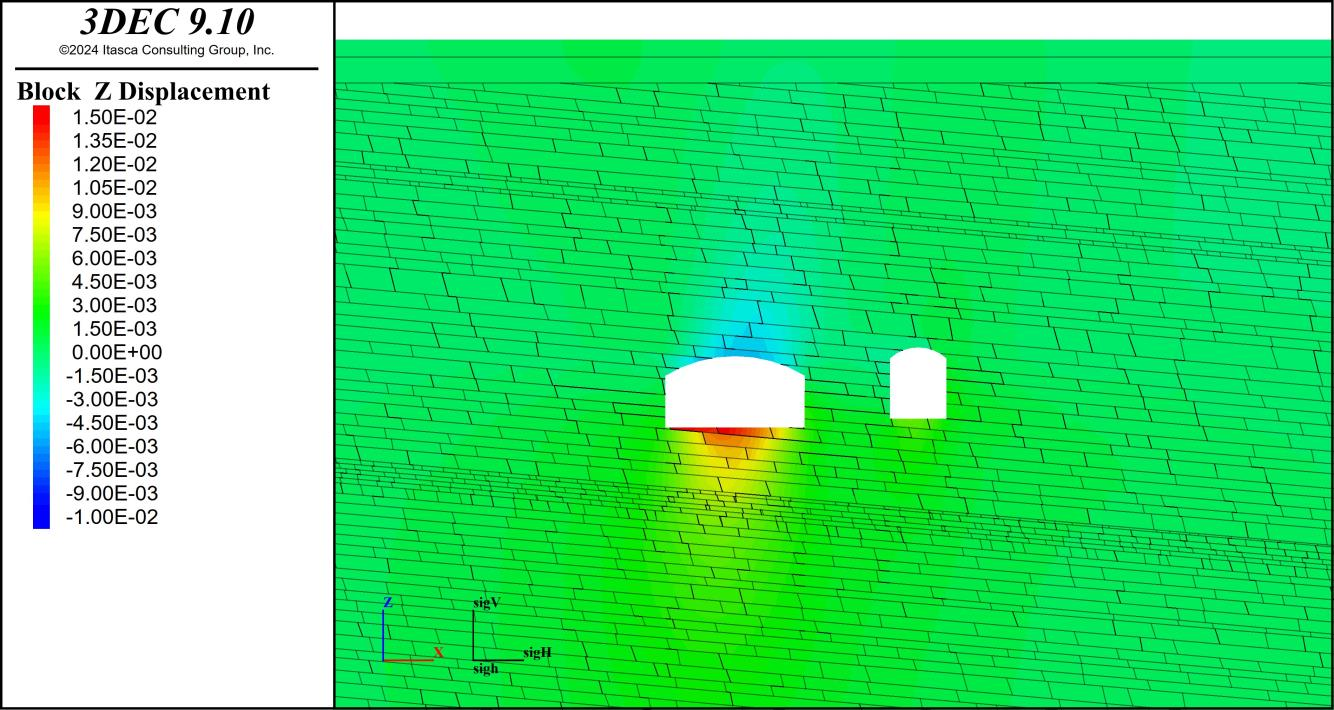crown: (890, 346, 946, 417), (718, 339, 746, 357), (910, 331, 924, 347)
label: (2, 5, 337, 710)
tunnel-opening: (666, 358, 804, 432)
